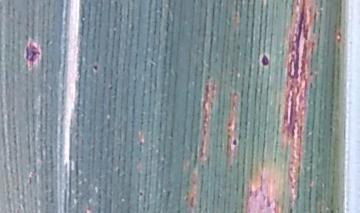tarspot: (22, 35, 45, 72), (257, 50, 275, 71), (90, 58, 101, 76), (231, 136, 242, 149), (136, 188, 146, 200)
